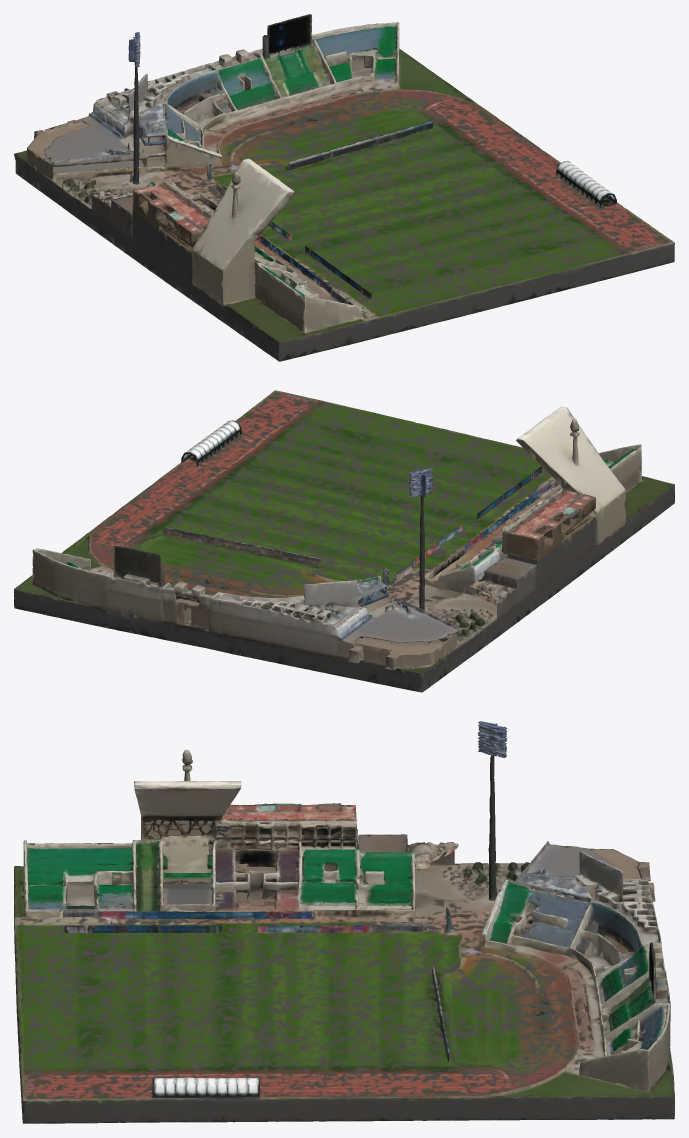
Rendered from matrouh-stadium-1.glb.
The picture shows the model from 3 angles, top to bottom: view 1: azimuth 30°, elevation 25°; view 2: azimuth 150°, elevation 25°; view 3: azimuth 270°, elevation 25°; orthographic projection. The views are drawn at different scales.
Size of the model in its own units: 0.8525 by 0.3328 by 1.
1 material, 1 textured.
